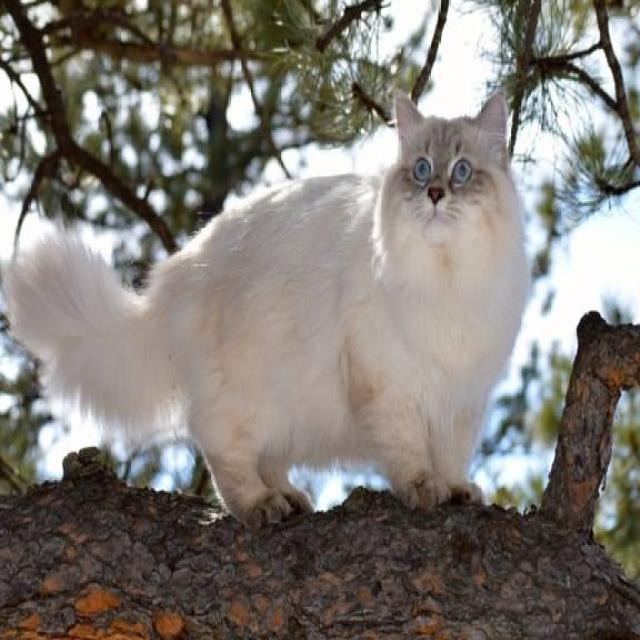Neva Masquerade: (0, 88, 534, 537)
